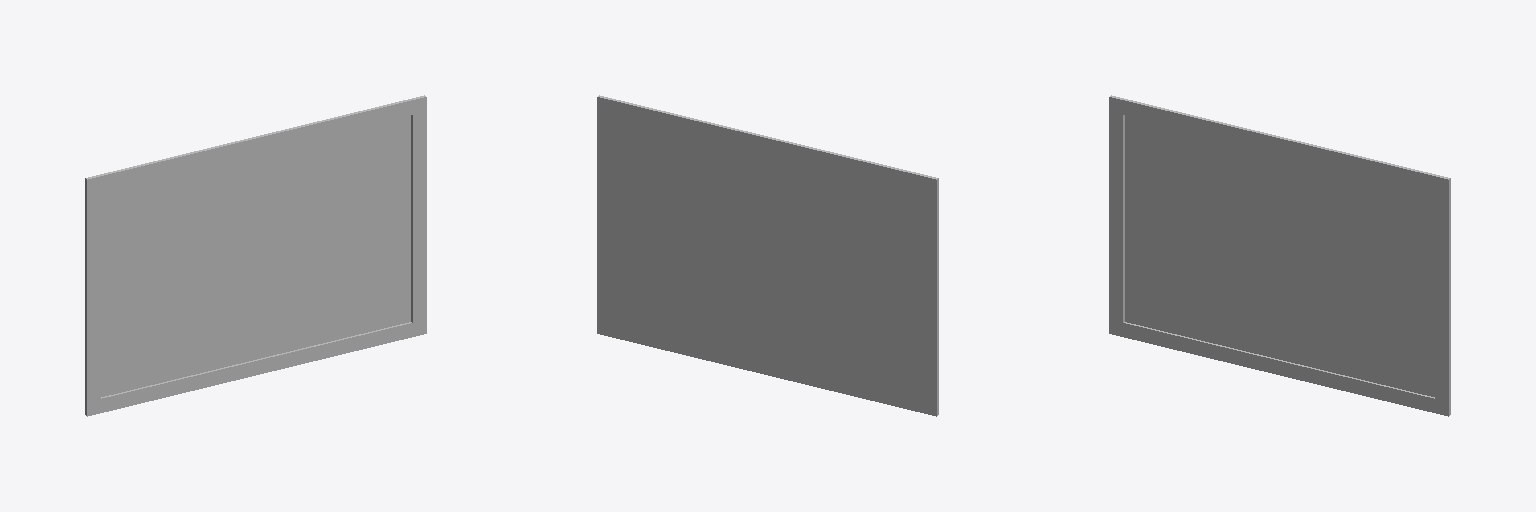
The picture shows the model from 3 angles: view 1: azimuth 30°, elevation 25°; view 2: azimuth 150°, elevation 25°; view 3: azimuth 330°, elevation 25°; orthographic projection.
Parts seen in each view (by area): view 1: SM_picture_01; view 2: SM_picture_01; view 3: SM_picture_01.
Part boxes in pixels (x1,y1,x2,y2): SM_picture_01: (85,95,426,416); SM_picture_01: (597,95,938,416); SM_picture_01: (1109,95,1450,416).
Bounding box in the file's own units: 8.65 × 5.78 × 0.0883.